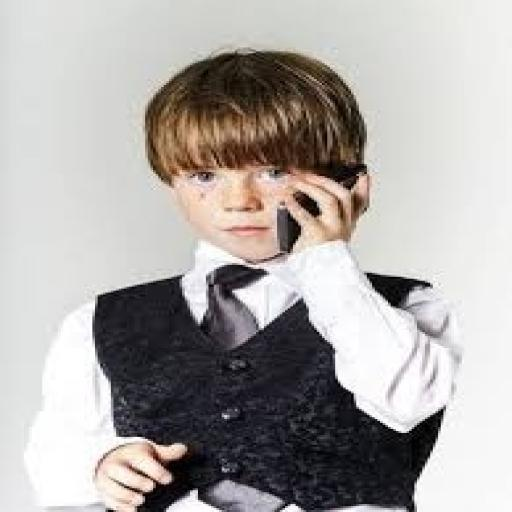calling: (21, 45, 467, 510)
